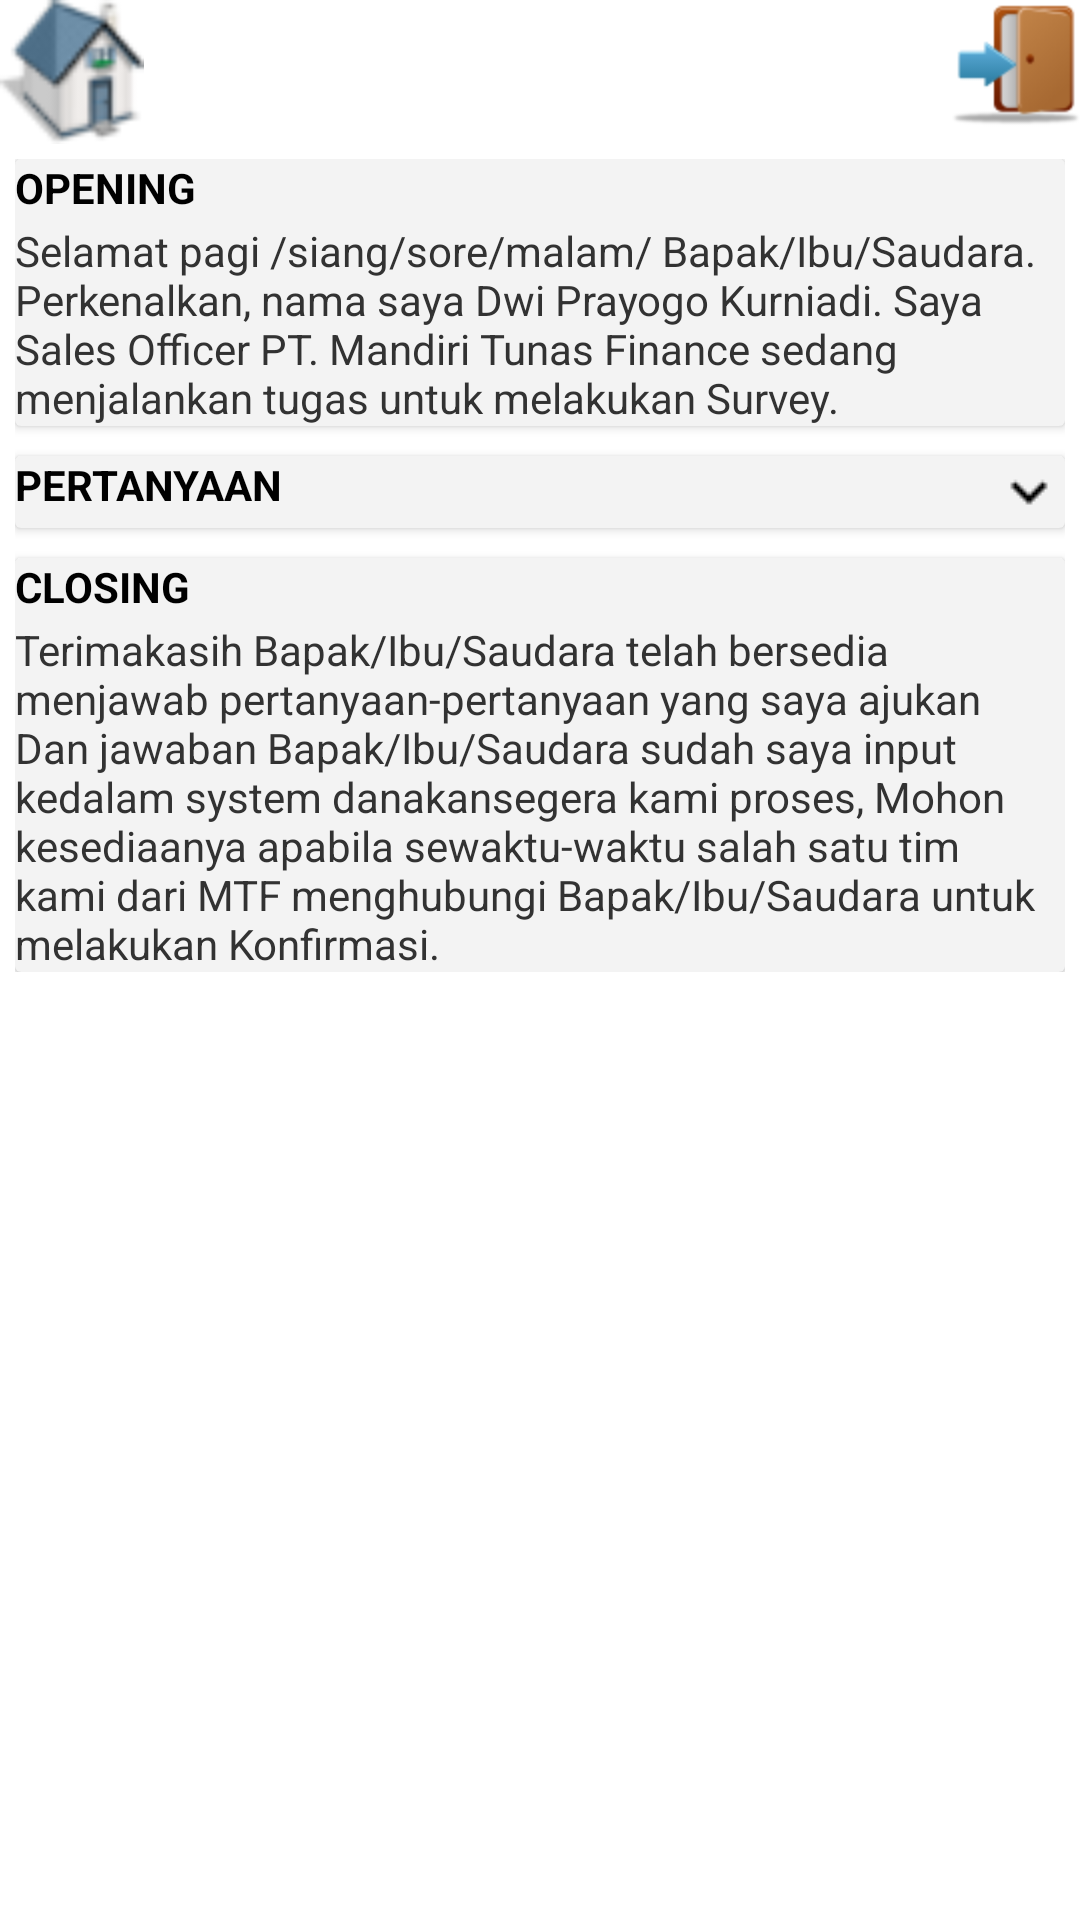

Screen size 1080 × 1920. Icon name, then its box in pixels as (x1, y1, x2, y2):
down: (1010, 480, 1048, 505)
home: (0, 0, 144, 141)
